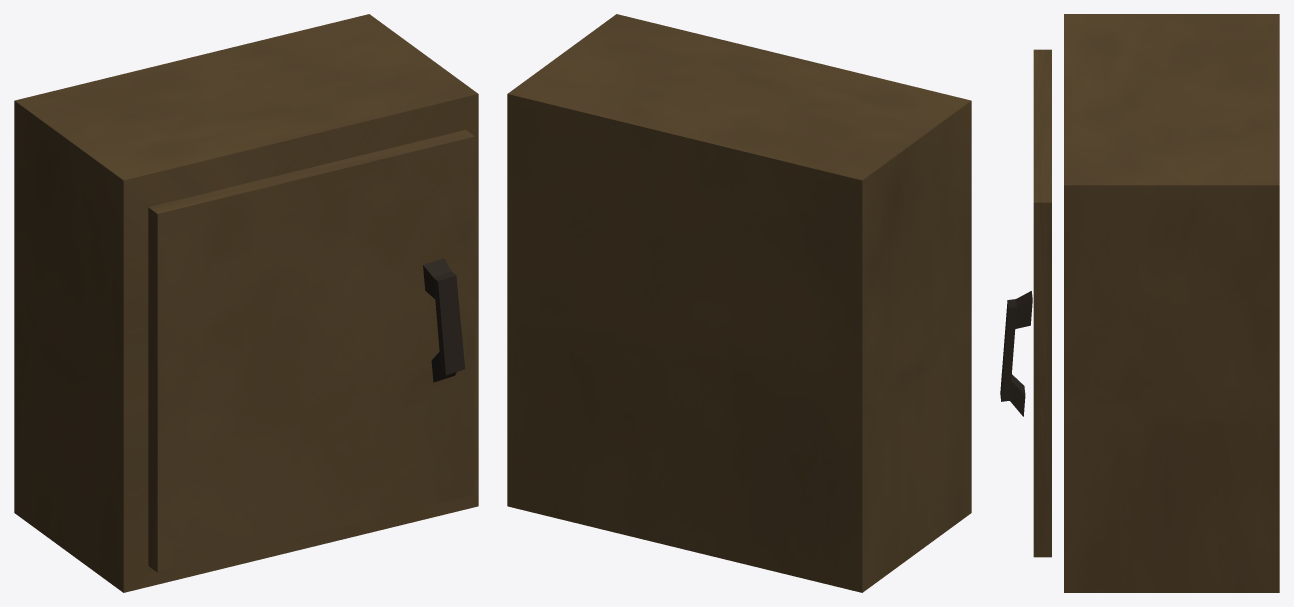
Rendered from Cabinet_Fixed.fbx.
3 views of the same model, side by side, from view 1: azimuth 30°, elevation 25°; view 2: azimuth 150°, elevation 25°; view 3: azimuth 270°, elevation 25° (orthographic).
Parts seen in each view (by area): view 1: polySurface11; view 2: polySurface11; view 3: polySurface11.
Boxes of the visible parts, x1,y1,x2,y2 form: polySurface11: (14, 14, 478, 592); polySurface11: (507, 14, 971, 592); polySurface11: (1000, 14, 1279, 592).
Size of the model in its own units: 58.43 by 64.88 by 40.29.
